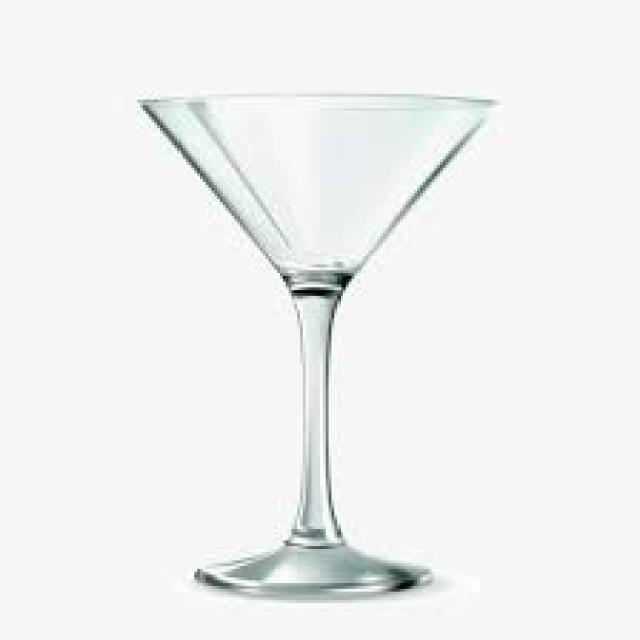glass: (135, 94, 495, 597)
